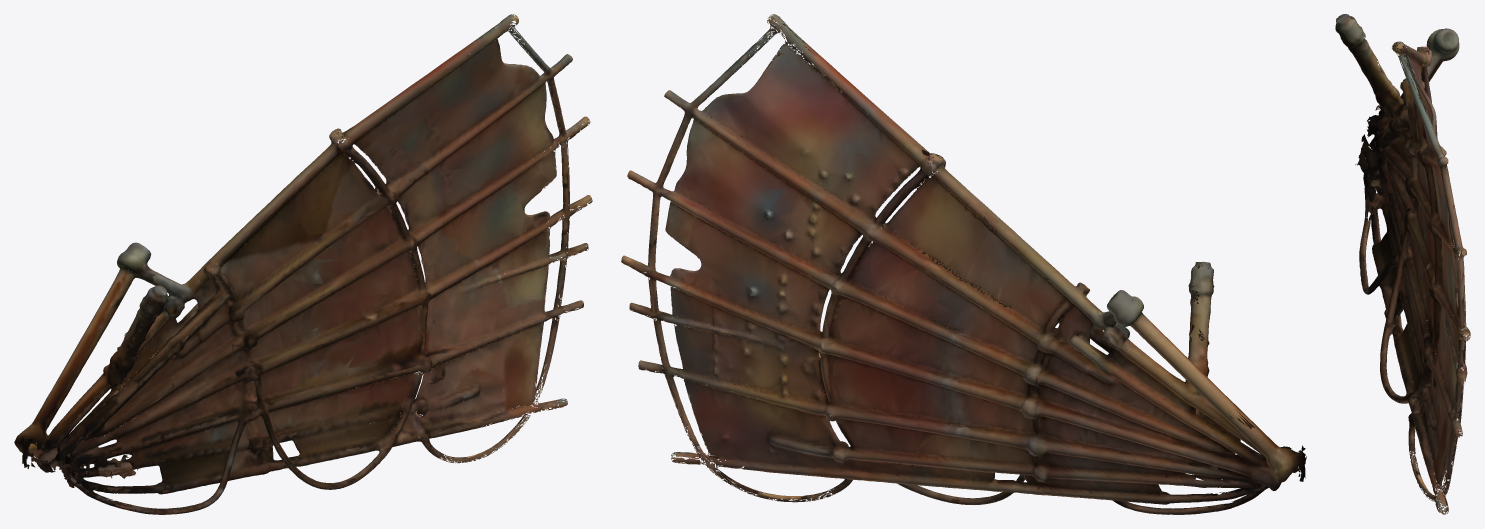
The model's file is ala.obj.
3 views of the same model, side by side, from view 1: azimuth 30°, elevation 25°; view 2: azimuth 150°, elevation 25°; view 3: azimuth 270°, elevation 25° (orthographic). The views are drawn at different scales.
Parts seen in each view (by area): view 1: ala_Material.003; view 2: ala_Material.003; view 3: ala_Material.003.
Part boxes in pixels (x1,y1,x2,y2): ala_Material.003: (14, 14, 592, 514); ala_Material.003: (621, 14, 1306, 514); ala_Material.003: (1335, 14, 1470, 514).
Size of the model in its own units: 1.04 by 0.7302 by 0.1946.
